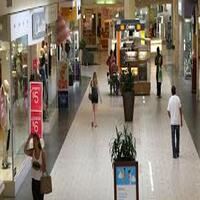person: (23, 129, 53, 181), (162, 78, 187, 126), (85, 70, 101, 103), (153, 48, 168, 75)
